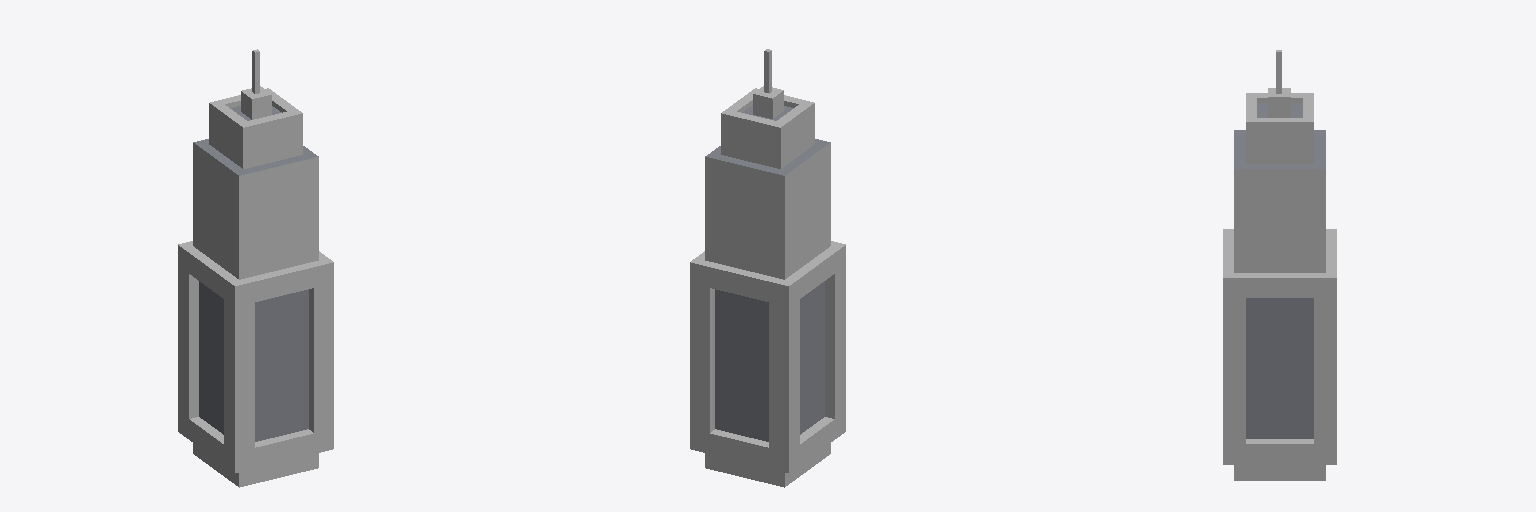
Rendered from low_buildingF.obj.
3 views of the same model, side by side, from view 1: azimuth 30°, elevation 25°; view 2: azimuth 150°, elevation 25°; view 3: azimuth 270°, elevation 25° (orthographic).
Visible parts, largest first — view 1: low_buildingF; view 2: low_buildingF; view 3: low_buildingF.
Part boxes in pixels (bbox=[...]): low_buildingF: bbox=[178, 49, 333, 487]; low_buildingF: bbox=[690, 49, 845, 487]; low_buildingF: bbox=[1223, 50, 1336, 480].
Size of the model in its own units: 0.7232 by 2.86 by 0.7232.